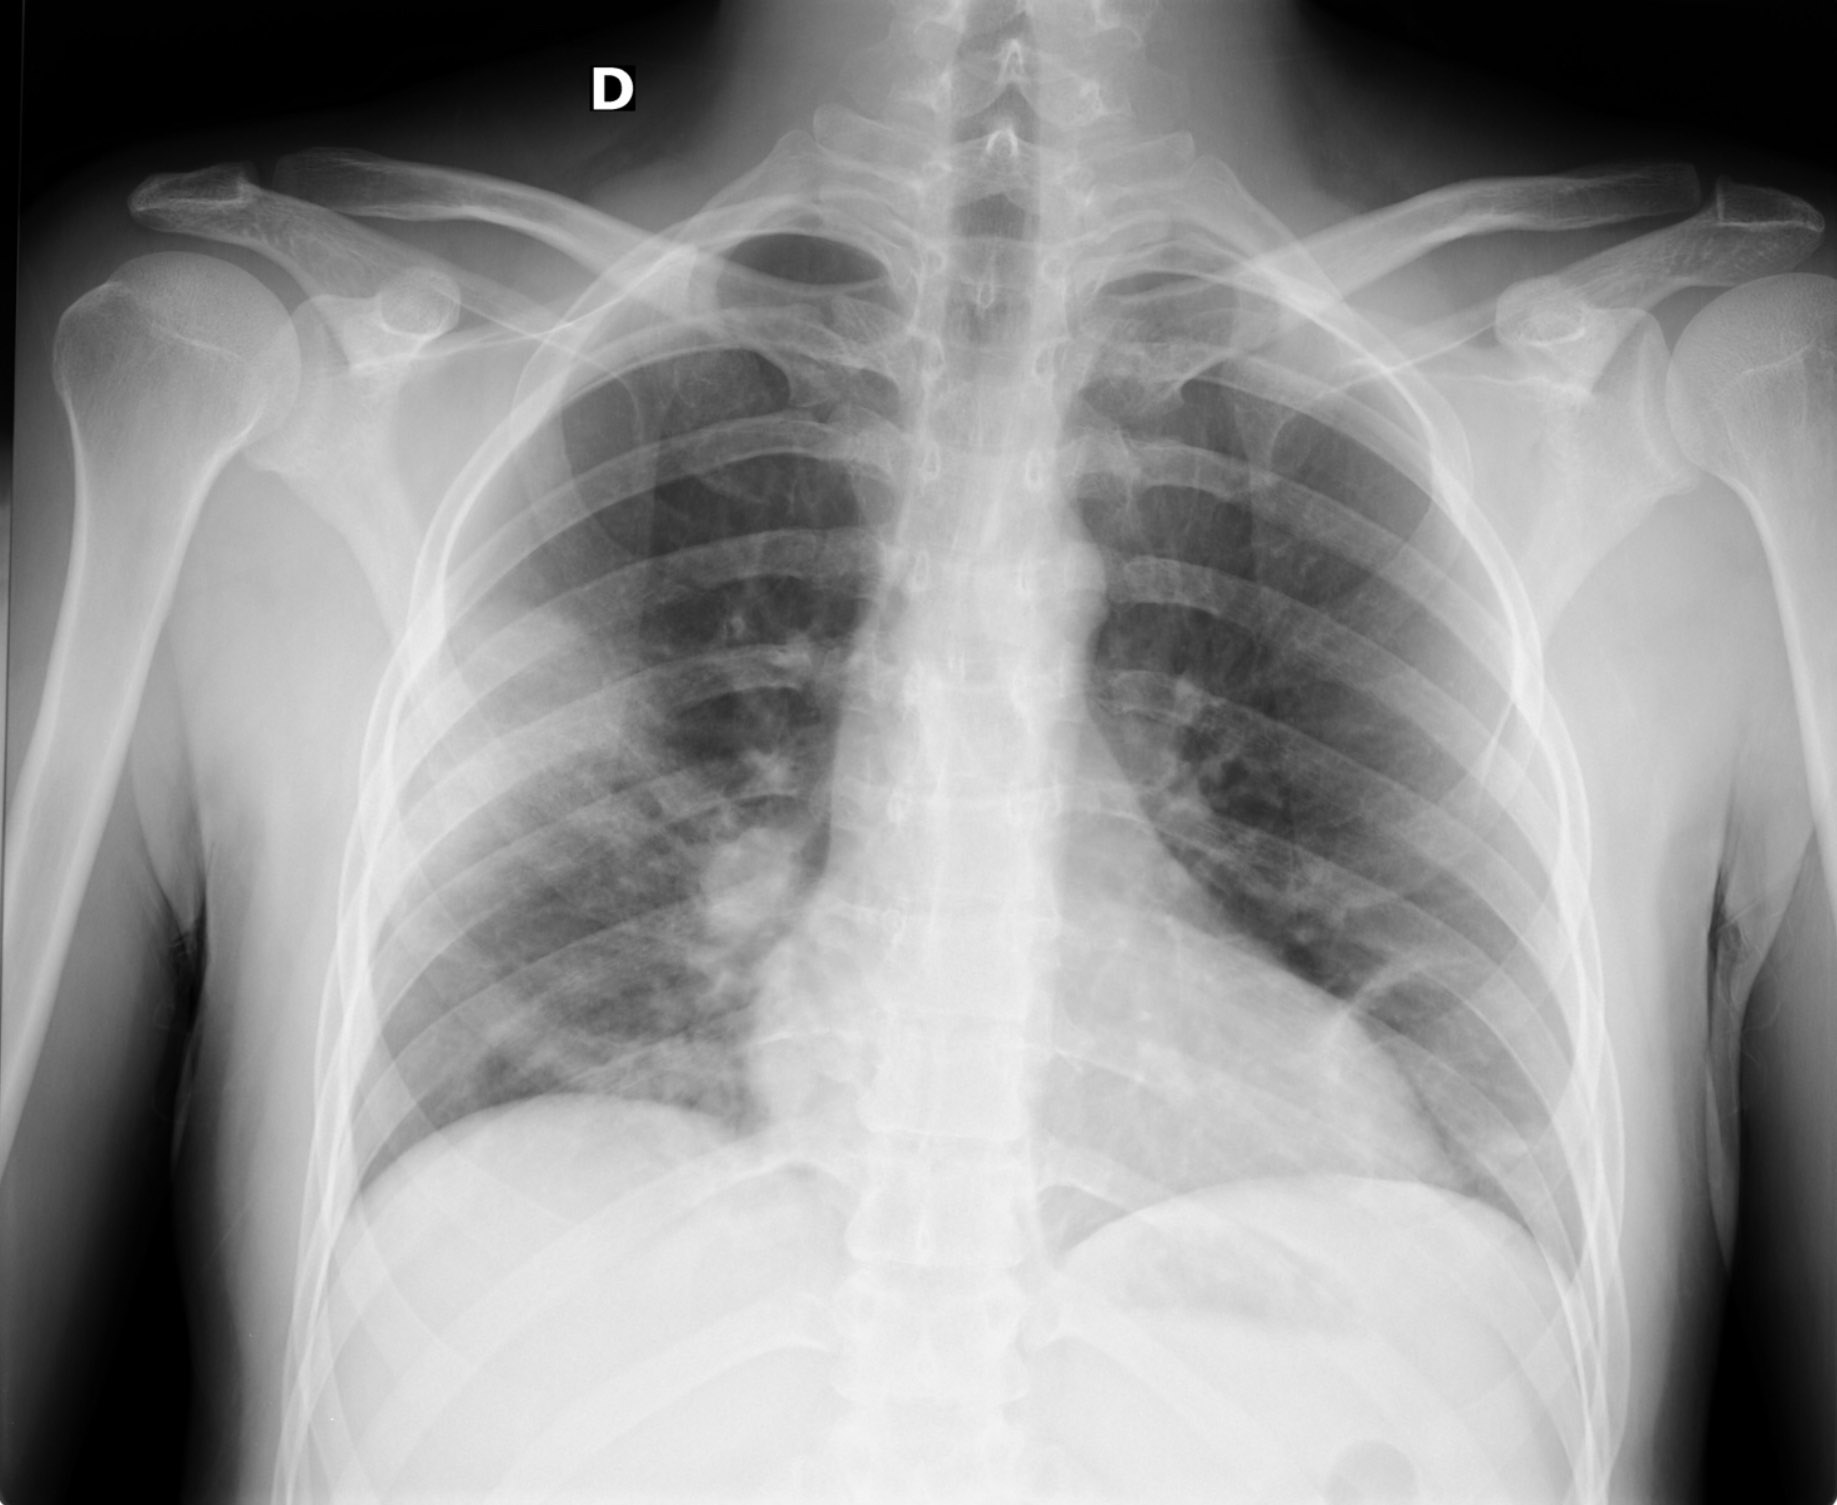Mildw: (333, 197, 905, 1200), (1063, 247, 1585, 1258)
